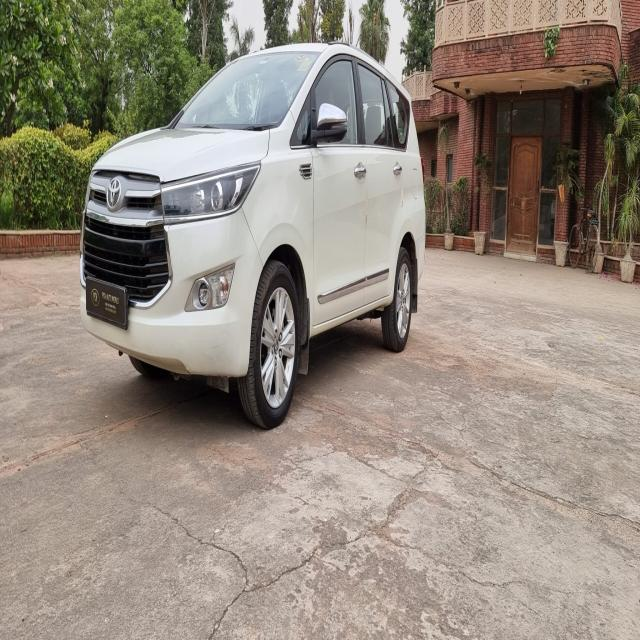light_vehicle: (80, 42, 427, 428)
